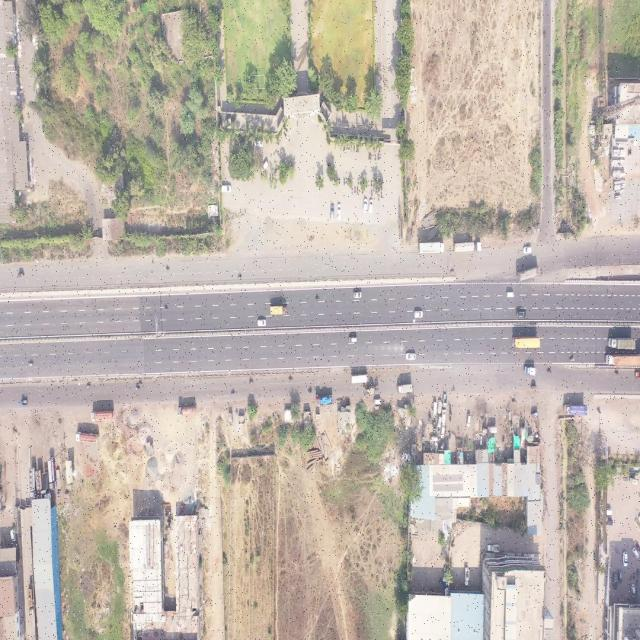3W: (530, 410, 540, 420), (17, 271, 27, 280), (20, 399, 29, 406), (530, 384, 537, 390)
Bus: (350, 373, 369, 384)
Cars: (254, 137, 264, 149), (622, 550, 629, 567), (261, 160, 269, 174), (257, 317, 267, 328), (522, 245, 533, 255), (515, 310, 527, 319), (613, 574, 619, 591), (221, 185, 232, 194), (405, 352, 416, 361), (337, 202, 342, 221), (632, 547, 639, 560), (348, 335, 358, 344), (414, 310, 423, 319), (369, 198, 374, 214), (466, 413, 471, 428), (631, 584, 636, 599), (330, 203, 334, 221), (363, 198, 367, 214), (442, 409, 446, 425), (438, 399, 442, 415), (505, 291, 514, 298), (353, 292, 362, 299), (433, 401, 437, 415), (375, 399, 382, 406), (438, 416, 442, 428), (547, 368, 553, 375)
LCV: (486, 543, 500, 554), (464, 564, 470, 586)
M2W: (314, 293, 321, 302), (86, 383, 92, 390), (569, 356, 575, 363), (163, 305, 169, 312), (249, 377, 255, 384), (308, 388, 314, 395), (237, 273, 243, 280), (28, 362, 34, 368), (137, 380, 143, 386), (166, 265, 170, 272), (289, 376, 293, 383), (231, 389, 235, 396), (357, 176, 360, 185), (371, 178, 374, 187), (377, 192, 380, 201), (271, 172, 274, 181), (450, 269, 455, 274), (338, 176, 341, 184), (135, 386, 139, 392), (353, 145, 356, 152), (370, 151, 372, 161), (344, 176, 346, 185), (355, 185, 357, 194), (347, 177, 349, 186), (379, 153, 381, 161), (352, 188, 354, 196), (357, 187, 359, 195), (348, 144, 350, 151), (375, 154, 377, 161)
MAV: (605, 351, 640, 366), (453, 241, 483, 253)
Truck: (607, 336, 640, 351), (516, 266, 541, 283), (512, 336, 541, 350), (75, 429, 100, 444), (418, 241, 445, 254), (564, 404, 589, 417), (89, 410, 114, 422), (395, 381, 415, 395), (314, 394, 333, 408), (177, 404, 197, 417), (270, 304, 287, 316), (523, 365, 537, 378)
